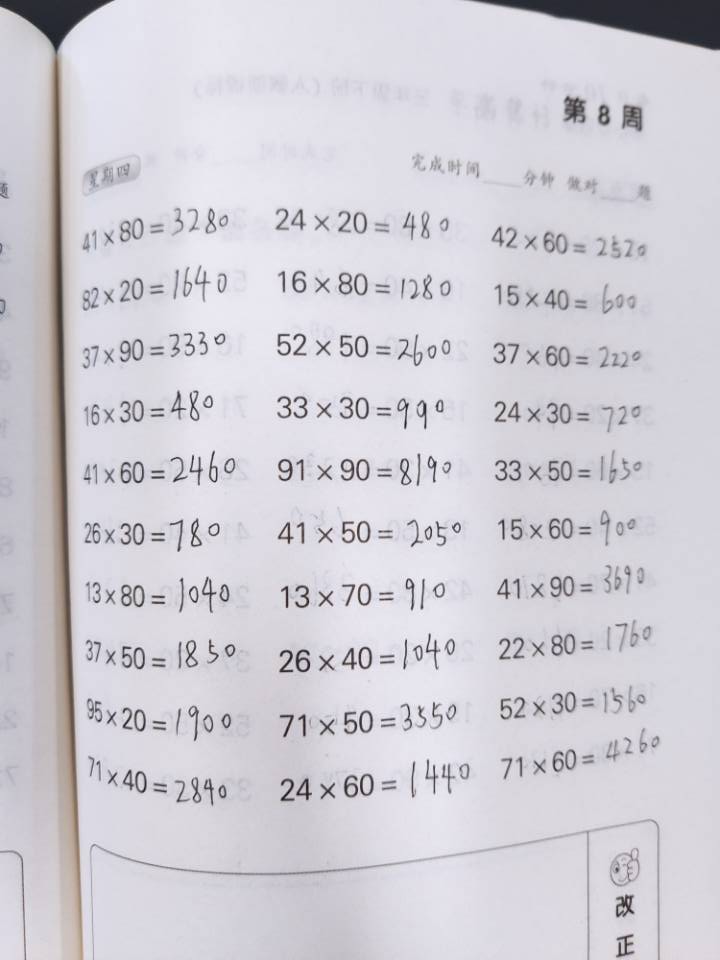equation: (544, 36, 594, 309), (562, 325, 611, 593), (281, 621, 328, 864), (374, 617, 421, 860), (326, 620, 373, 863), (513, 613, 560, 856), (148, 624, 194, 867), (193, 621, 239, 864), (421, 617, 467, 860), (466, 617, 512, 860), (235, 623, 281, 865), (564, 615, 610, 857), (509, 47, 545, 317), (290, 337, 324, 611), (246, 325, 280, 599), (152, 332, 186, 605), (196, 327, 230, 600), (477, 328, 511, 601), (429, 344, 463, 617), (382, 324, 416, 597), (334, 327, 368, 600), (524, 323, 558, 596), (252, 51, 286, 324), (166, 52, 200, 325), (380, 44, 414, 317), (335, 51, 369, 324), (293, 43, 327, 316), (208, 56, 241, 329), (464, 44, 497, 317), (421, 47, 454, 320)
